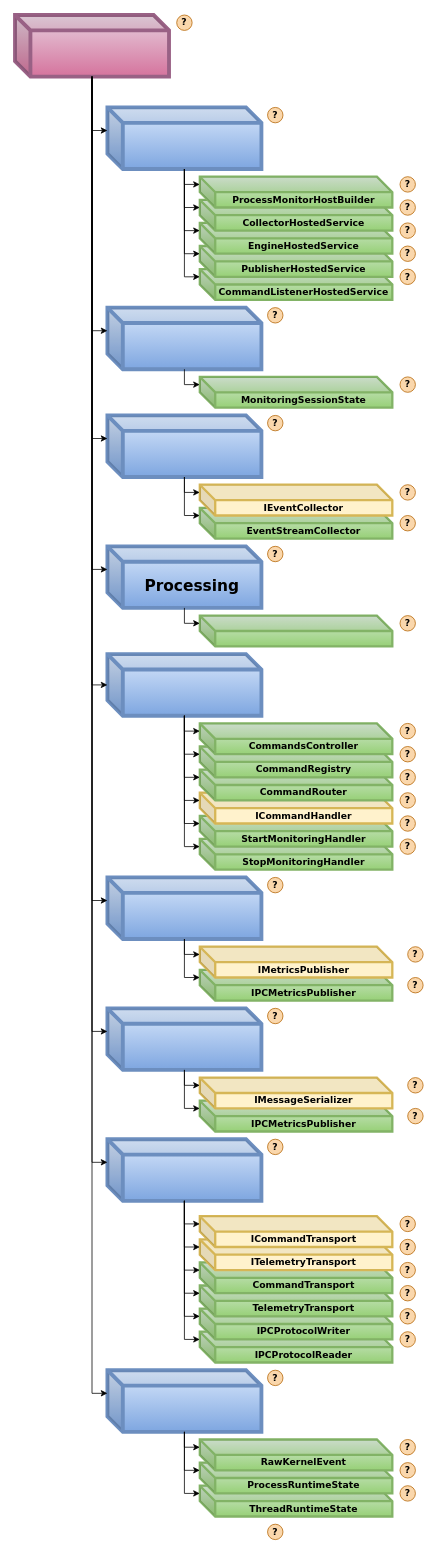
The diagram is 437 pixels wide and 1553 high, and some of its shapes have lost their labels. The shapes that lost their labels are listed below. From the top down, each one's centre as x and y in pixels, then its label:
the point at 92,45: ProcessMonitor.Backend
the point at 184,138: Hosting
the point at 184,338: State
the point at 184,446: Collection
the point at 295,630: EventMetricsEngine
the point at 184,684: Commands
the point at 184,908: Publishing
the point at 184,1038: Serialization
the point at 184,1169: Transport
the point at 184,1400: Models
